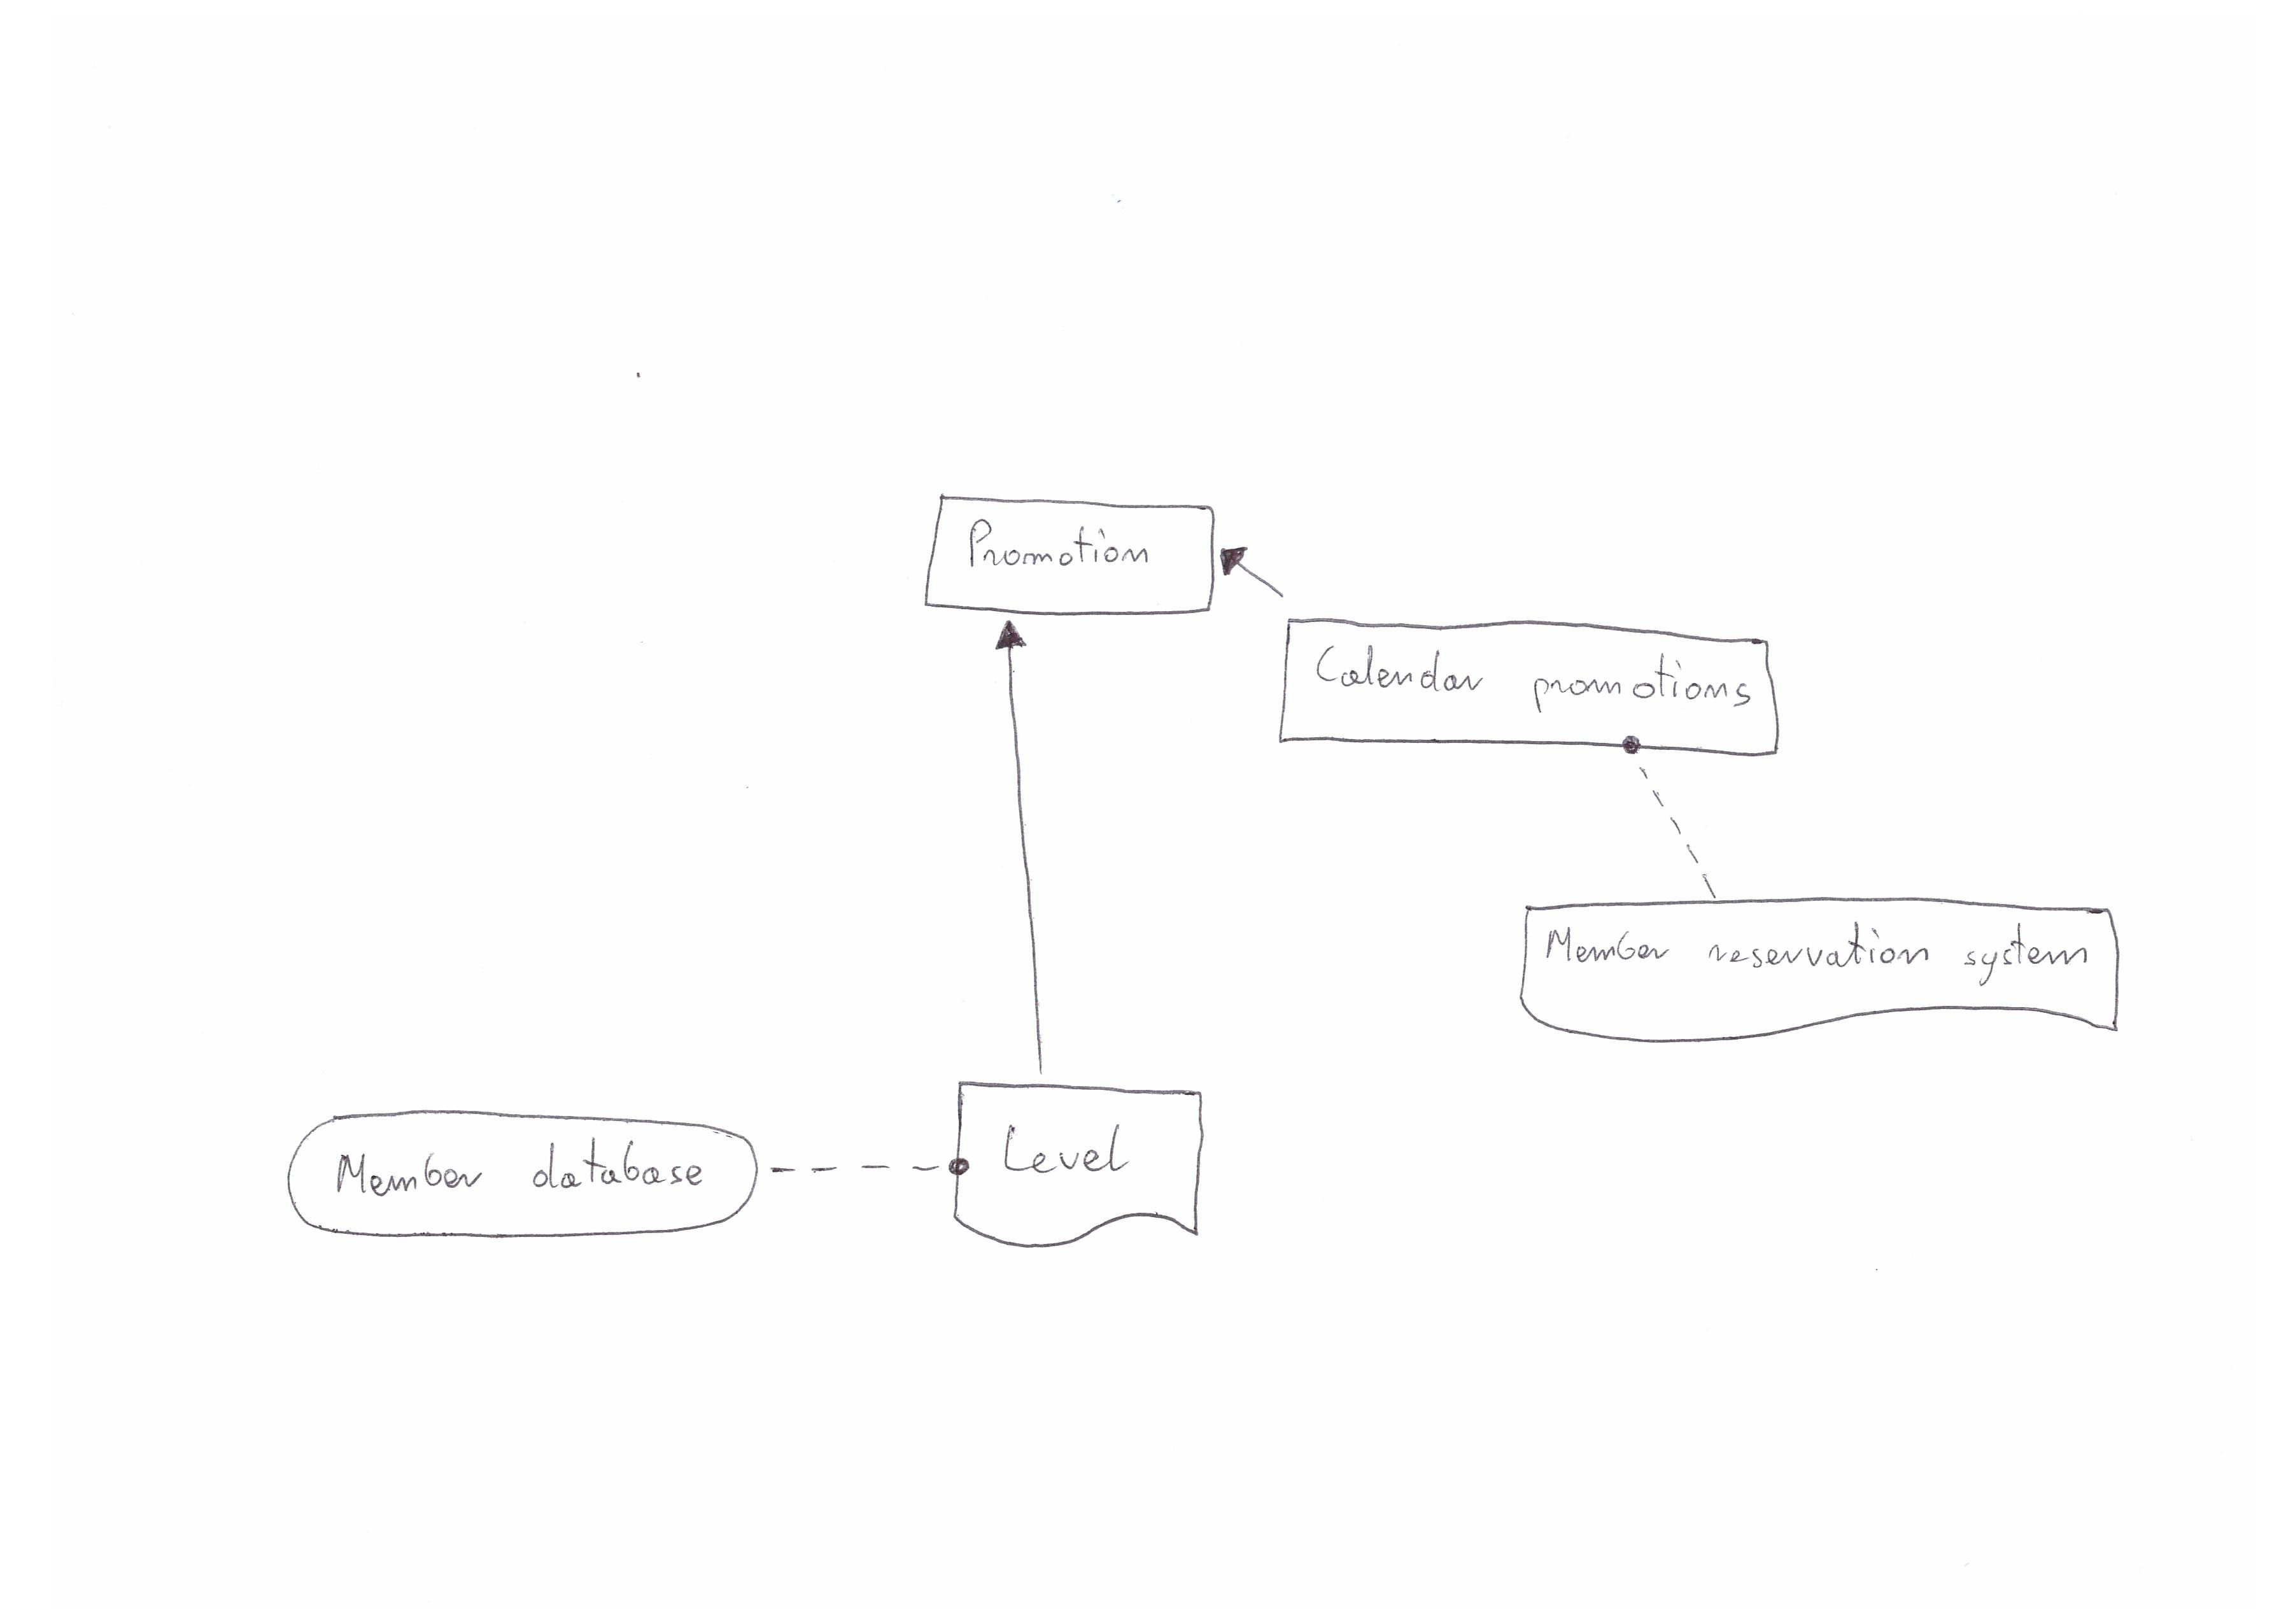arrow_authority_requirement: (1599, 735, 1731, 898), (759, 1153, 972, 1186)
arrow_information_requirement: (989, 613, 1061, 1079), (1212, 538, 1295, 608)
node_decision: (1277, 612, 1794, 766), (919, 487, 1219, 620)
node_input_data: (279, 1104, 766, 1246)
node_knowledge_source: (1511, 895, 2133, 1058), (951, 1079, 1216, 1255)
text: (1541, 916, 2103, 998), (1309, 634, 1759, 724), (325, 1139, 719, 1209), (958, 506, 1161, 582), (988, 1102, 1144, 1195)
